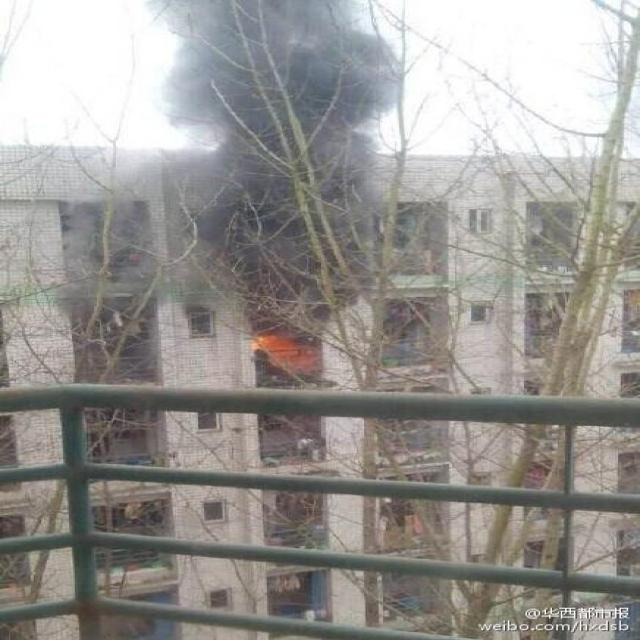fire: (251, 334, 321, 371)
smoke: (144, 0, 412, 318)
